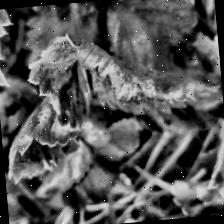Powdery Mildew Leaf: (65, 17, 219, 122), (2, 93, 89, 185), (23, 34, 95, 134), (196, 69, 224, 200)
